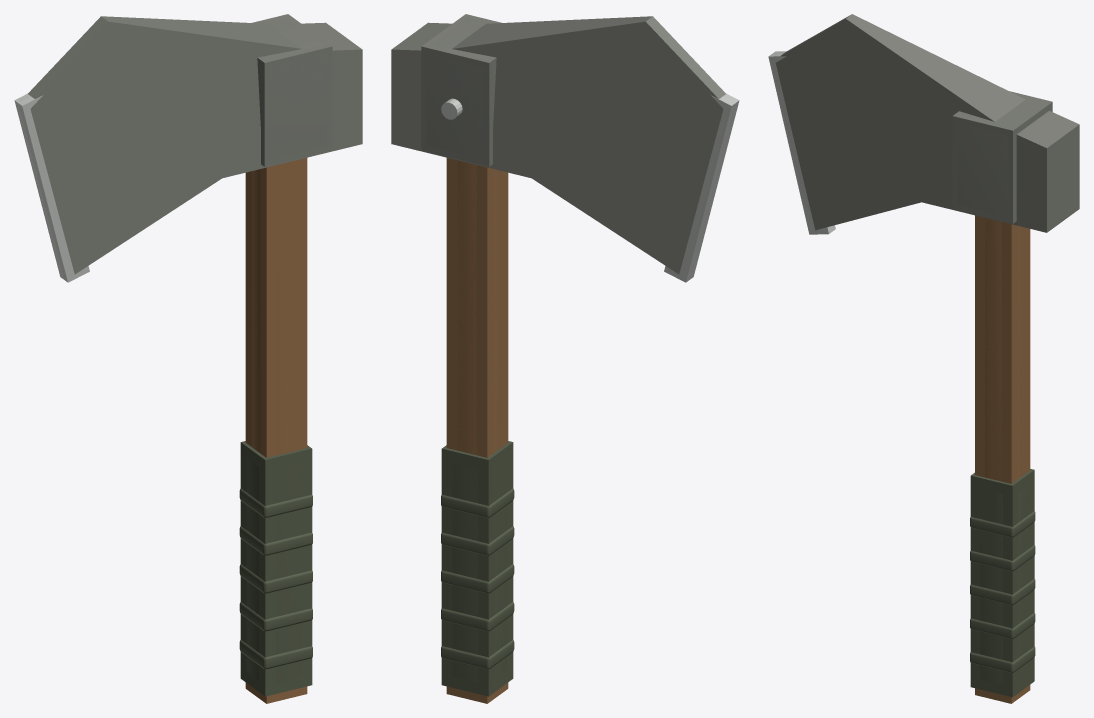
The model's file is SurvivalAxe.fbx.
3 renders of one model, left to right at view 1: azimuth 30°, elevation 25°; view 2: azimuth 150°, elevation 25°; view 3: azimuth 330°, elevation 25°, orthographic. The views are drawn at different scales.
Parts seen in each view (by area): view 1: LOD0_GearSteel, LOD1_AxeWood, LOD0_GearStrap, LOD1_GearStrap, LOD0_AxeWood, LOD1_GearSteel, LOD1_AxeEdge, LOD0_AxeEdge; view 2: LOD0_GearSteel, LOD1_AxeWood, LOD0_GearStrap, LOD1_GearStrap, LOD0_AxeWood, LOD1_GearSteel, LOD1_AxeEdge, LOD0_AxeEdge; view 3: LOD0_GearSteel, LOD1_AxeWood, LOD1_GearStrap, LOD0_GearStrap, LOD0_AxeWood, LOD1_GearSteel, LOD1_AxeEdge, LOD0_AxeEdge.
Boxes of the visible parts, <box> form: LOD0_GearSteel: <box>28,16,362,274</box>; LOD1_AxeWood: <box>245,157,307,703</box>; LOD0_GearStrap: <box>239,458,312,682</box>; LOD1_GearStrap: <box>240,441,312,696</box>; LOD0_AxeWood: <box>252,161,296,455</box>; LOD1_GearSteel: <box>252,14,332,166</box>; LOD1_AxeEdge: <box>14,93,89,282</box>; LOD0_AxeEdge: <box>16,95,86,278</box>; LOD0_GearSteel: <box>391,16,725,274</box>; LOD1_AxeWood: <box>446,157,508,703</box>; LOD0_GearStrap: <box>441,458,514,682</box>; LOD1_GearStrap: <box>441,441,513,696</box>; LOD0_AxeWood: <box>457,160,501,454</box>; LOD1_GearSteel: <box>421,14,501,166</box>; LOD1_AxeEdge: <box>442,93,739,282</box>; LOD0_AxeEdge: <box>441,95,734,278</box>; LOD0_GearSteel: <box>775,14,1079,232</box>; LOD1_AxeWood: <box>975,215,1030,703</box>; LOD1_GearStrap: <box>970,469,1034,697</box>; LOD0_GearStrap: <box>970,484,1035,684</box>; LOD0_AxeWood: <box>985,218,1024,479</box>; LOD1_GearSteel: <box>952,91,1052,223</box>; LOD1_AxeEdge: <box>768,51,835,234</box>; LOD0_AxeEdge: <box>771,52,833,231</box>.
Bounding box in the file's own units: 36.05 × 75.5 × 9.65.
